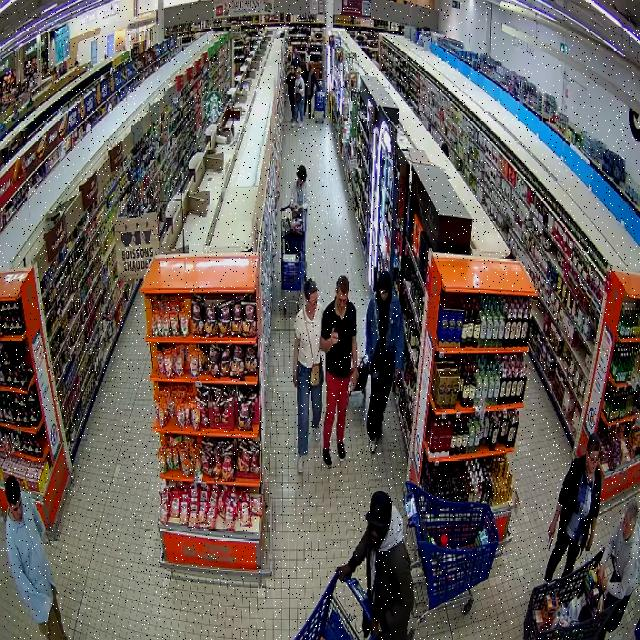article: (346, 382, 355, 395)
bags: (370, 300, 393, 375), (370, 342, 392, 375), (303, 312, 315, 362), (370, 341, 380, 373), (310, 363, 320, 387)
hands: (337, 564, 353, 582), (370, 618, 381, 635), (350, 367, 358, 390), (549, 519, 556, 541), (330, 329, 339, 346), (600, 573, 608, 592), (39, 623, 49, 637), (598, 564, 604, 584), (396, 369, 402, 386), (586, 536, 592, 552), (293, 367, 297, 387), (292, 204, 299, 211), (396, 369, 402, 377)
person: (338, 491, 413, 639), (5, 476, 67, 639), (545, 433, 601, 581), (365, 270, 404, 452), (321, 276, 358, 467), (292, 280, 324, 473), (597, 499, 639, 639), (289, 164, 309, 213)
